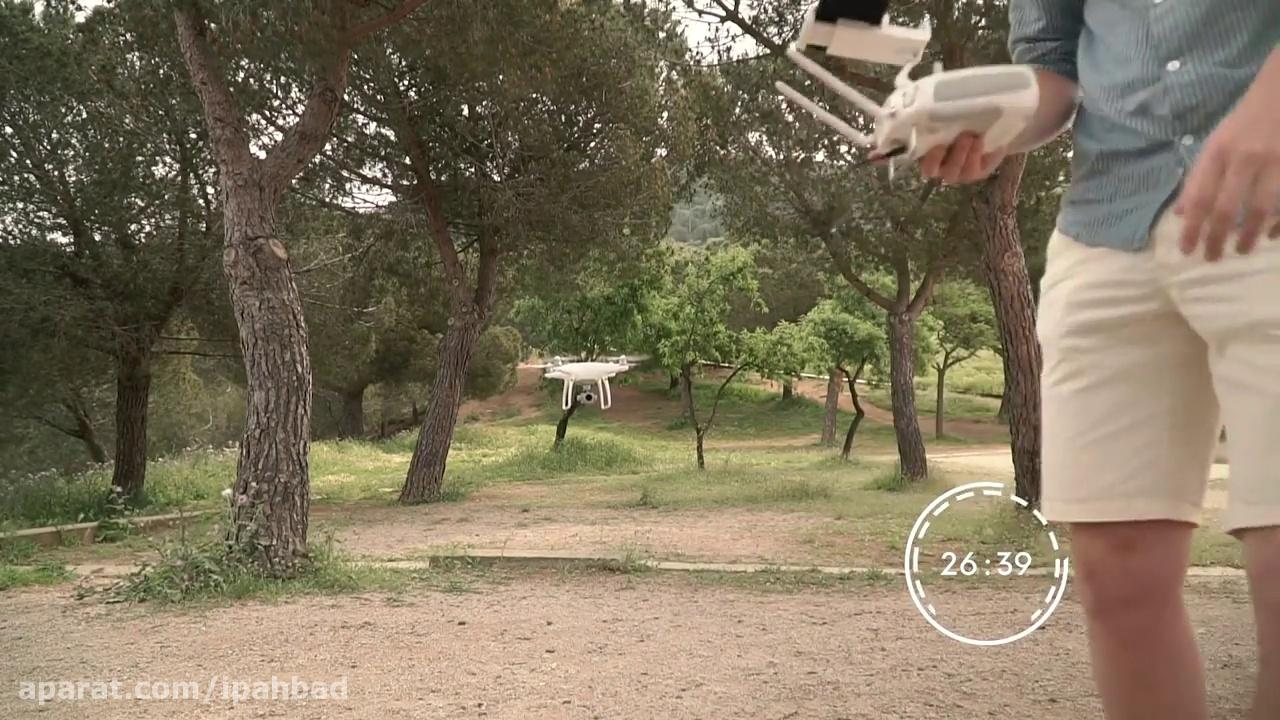drone: (535, 347, 650, 411)
